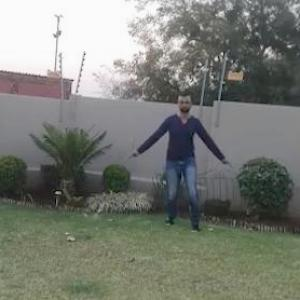land: (134, 98, 233, 230)
